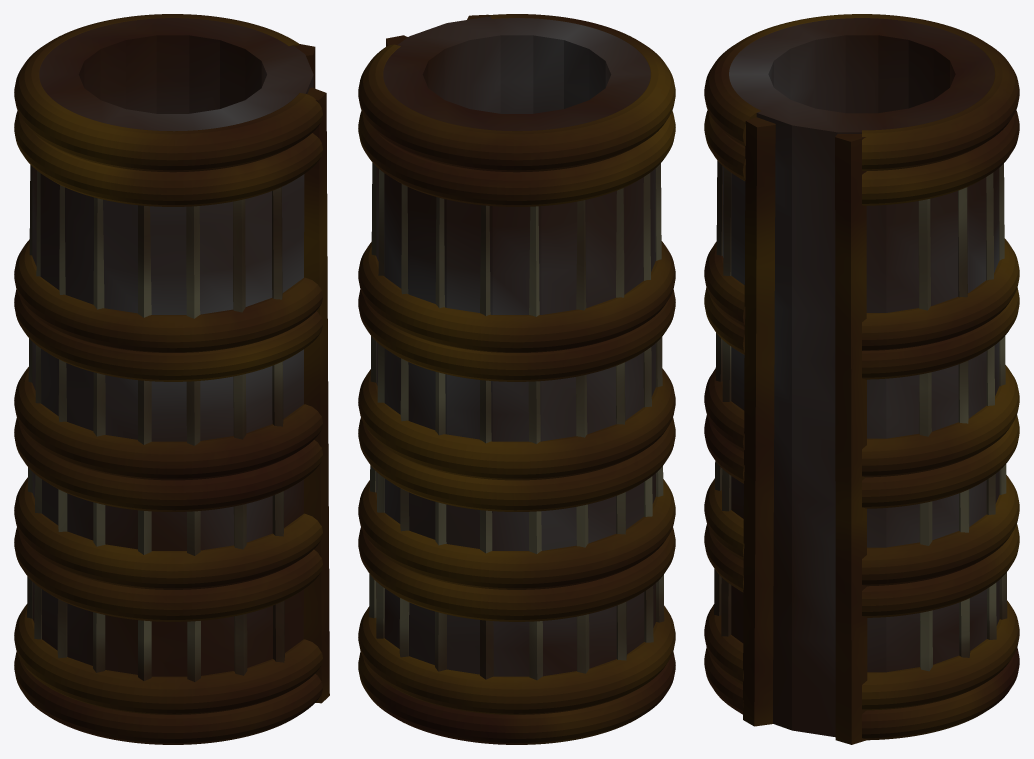
File: Maxhina.fbx
The picture shows the model from 3 angles, left to right: view 1: azimuth 30°, elevation 25°; view 2: azimuth 150°, elevation 25°; view 3: azimuth 270°, elevation 25°; orthographic projection.
Parts seen in each view (by area): view 1: Cylindre, Relief petit, Tore 10, Tore 5, Tore 3, Tore 7, Tore 1, Tore 8, Tore 2, Tube, Tore 4, Tore 9 (+1 smaller); view 2: Cylindre, Relief petit, Tore 10, Tore 5, Tore 7, Tore 3, Tore 1, Tore 8, Tore 2, Tore 4, Tore 9, Tore 6; view 3: Cylindre, Tube, Tube 2, Relief petit, Tore 10, Tore 7, Tore 5, Tore 3, Tore 1, Tore 8, Tore 2, Tore 4 (+2 smaller).
Boxes of the visible parts, box(x1,y1,x2,y2) form: Cylindre: box(32, 18, 313, 676); Relief petit: box(27, 165, 284, 681); Tore 10: box(14, 14, 322, 172); Tore 5: box(14, 367, 322, 480); Tore 3: box(14, 477, 322, 589); Tore 7: box(14, 239, 322, 352); Tore 1: box(14, 604, 322, 714); Tore 8: box(14, 111, 322, 206); Tore 2: box(14, 527, 322, 621); Tube: box(303, 87, 329, 703); Tore 4: box(14, 418, 322, 511); Tore 9: box(14, 652, 322, 744); Cylindre: box(376, 16, 655, 676); Relief petit: box(369, 162, 664, 680); Tore 10: box(358, 14, 675, 172); Tore 5: box(358, 368, 675, 480); Tore 7: box(358, 241, 675, 352); Tore 3: box(358, 479, 675, 589); Tore 1: box(358, 605, 675, 714); Tore 8: box(358, 111, 675, 206); Tore 2: box(358, 527, 675, 621); Tore 4: box(358, 418, 675, 511); Tore 9: box(358, 651, 675, 744); Tore 6: box(358, 289, 675, 381); Cylindre: box(722, 18, 999, 737); Tube: box(743, 117, 775, 726); Tube 2: box(835, 134, 867, 744); Relief petit: box(714, 160, 1007, 671); Tore 10: box(704, 14, 1019, 170); Tore 7: box(704, 238, 1019, 350); Tore 5: box(704, 365, 1019, 477); Tore 3: box(704, 475, 1019, 586); Tore 1: box(704, 600, 1019, 710); Tore 8: box(704, 110, 1019, 205); Tore 2: box(704, 524, 1019, 617); Tore 4: box(704, 415, 1019, 508).
Bounding box in the file's own units: 0.295 × 0.6189 × 0.292.
